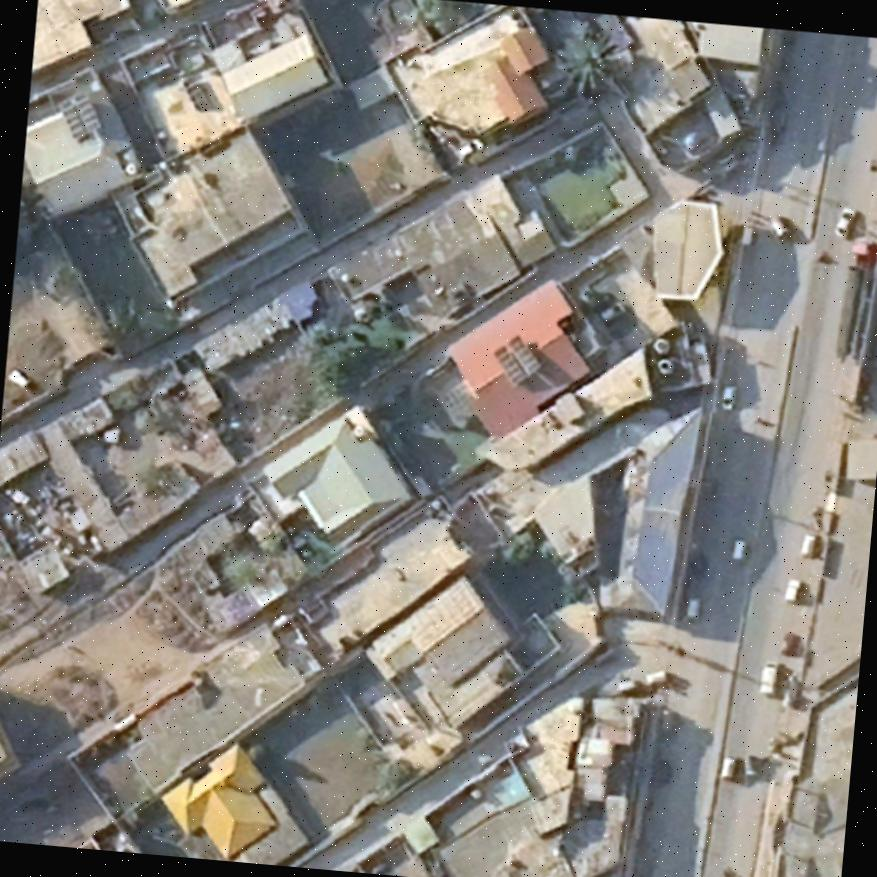Solarpanel: (487, 329, 548, 390), (53, 86, 108, 150)
